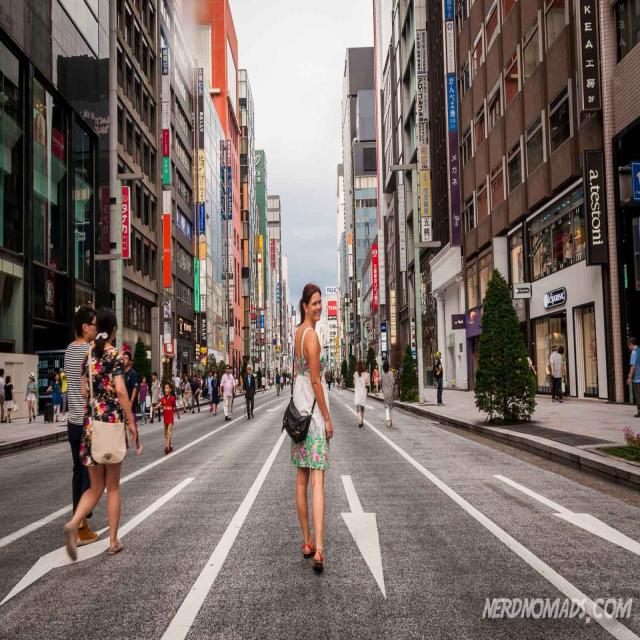body: (64, 306, 139, 562), (280, 280, 336, 573), (62, 304, 99, 546), (122, 350, 142, 456), (152, 382, 180, 454), (236, 376, 347, 389), (626, 336, 640, 418), (380, 359, 396, 428), (352, 360, 368, 429), (166, 372, 207, 398), (548, 344, 566, 403), (219, 364, 236, 421), (46, 370, 64, 423), (550, 345, 566, 400), (519, 353, 537, 400), (242, 363, 256, 420), (23, 371, 38, 424), (2, 374, 18, 423), (432, 351, 446, 406), (148, 371, 162, 424), (137, 374, 150, 426), (208, 370, 220, 416), (204, 370, 214, 412), (190, 374, 200, 414), (59, 370, 68, 414), (181, 375, 191, 414), (371, 364, 381, 397), (0, 367, 6, 421), (275, 370, 281, 396), (261, 374, 266, 394)
